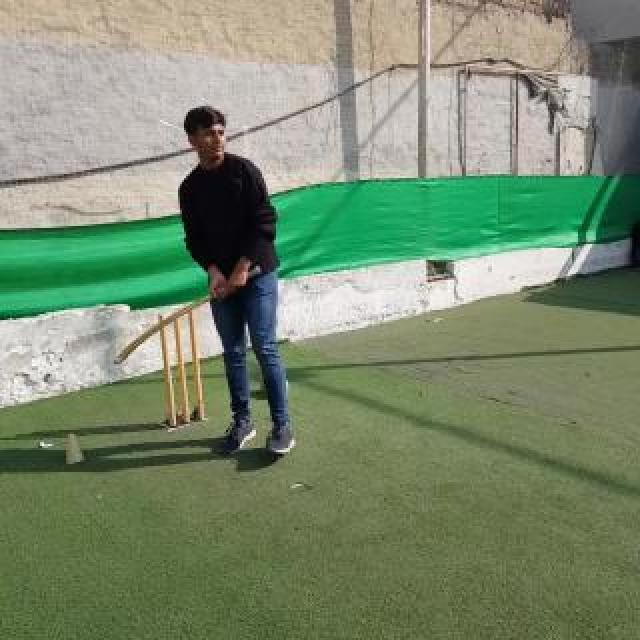bat: (114, 266, 264, 366)
